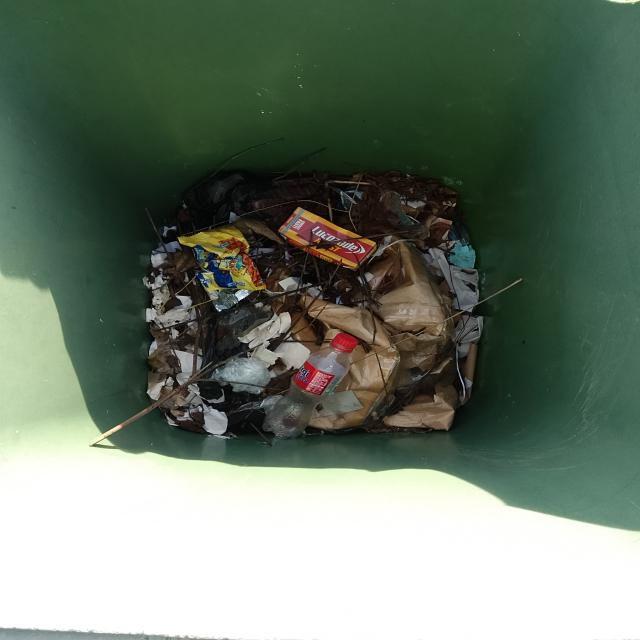half-full: (13, 54, 640, 538)
